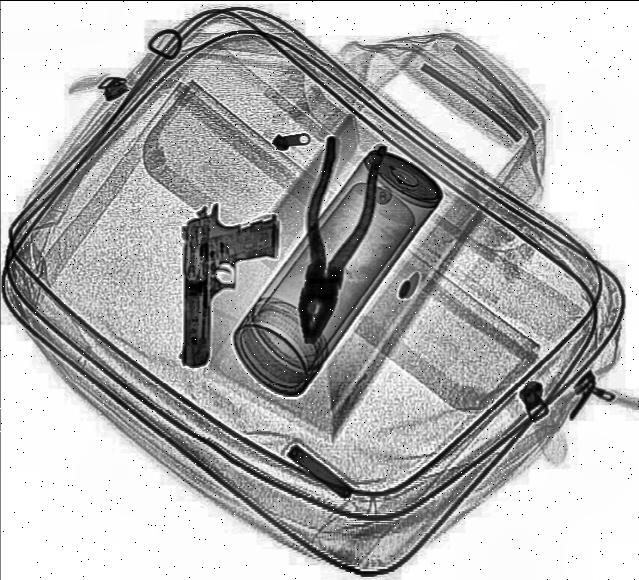Gun: (180, 203, 278, 366)
Pliers: (276, 133, 390, 351)
